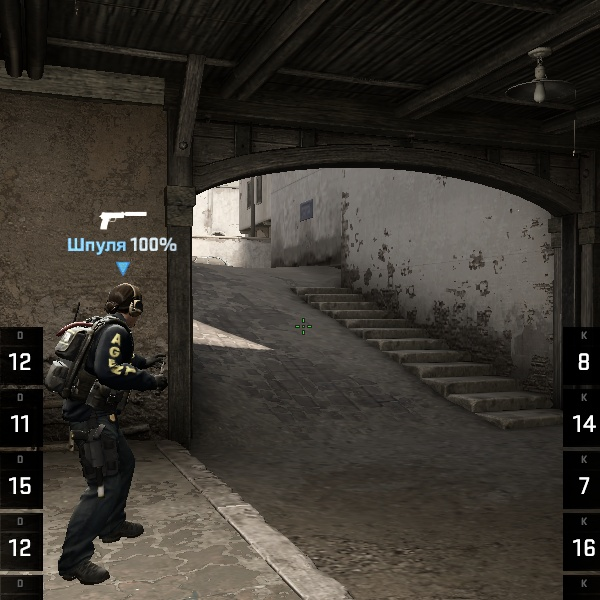ct_body: (51, 281, 162, 585)
ct_head: (100, 279, 150, 329)
